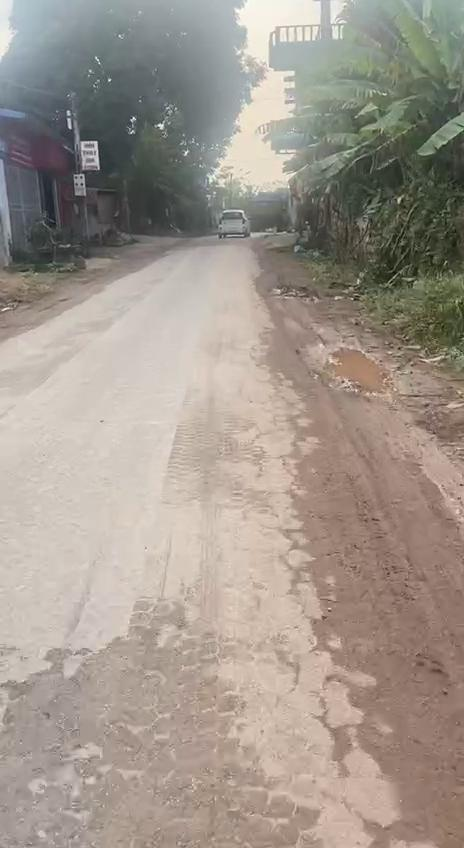pothole: (316, 340, 391, 399)
